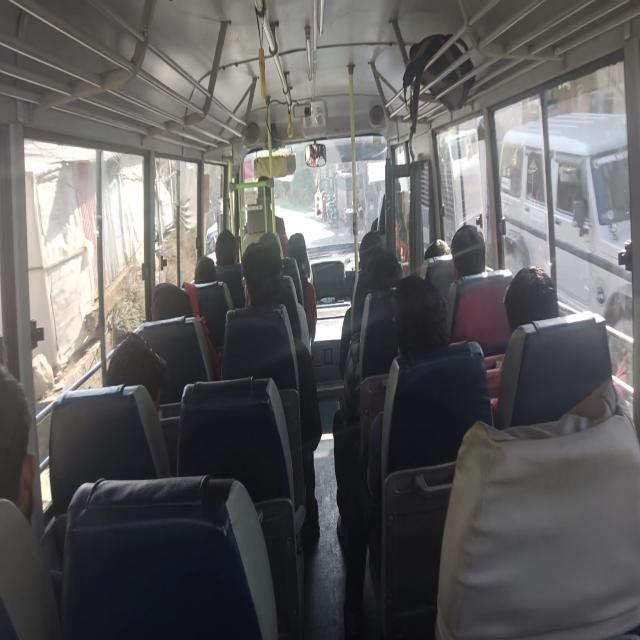person: (2, 364, 54, 529), (490, 256, 564, 340), (103, 332, 174, 410), (390, 270, 445, 356), (152, 268, 202, 330), (241, 242, 279, 323), (448, 219, 490, 284), (364, 243, 406, 290), (355, 224, 395, 257), (259, 228, 288, 270), (192, 242, 216, 292), (213, 225, 242, 265), (253, 160, 276, 210), (384, 173, 418, 206), (287, 232, 311, 276), (424, 233, 454, 261)
